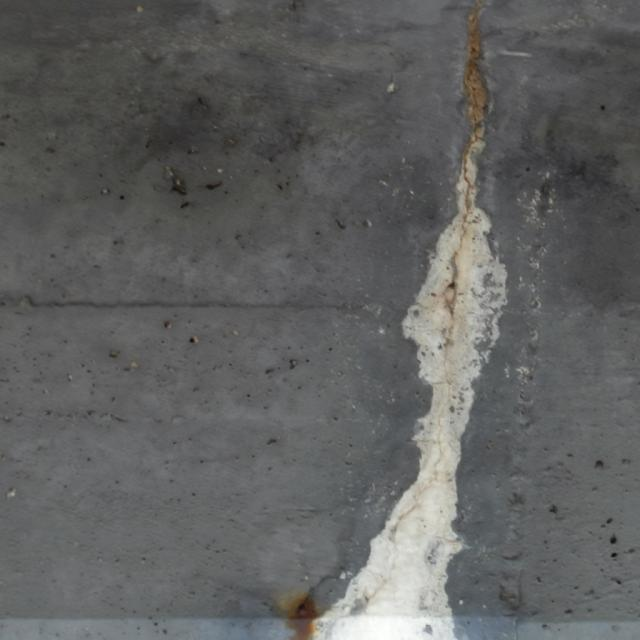D01: (310, 138, 506, 637)
